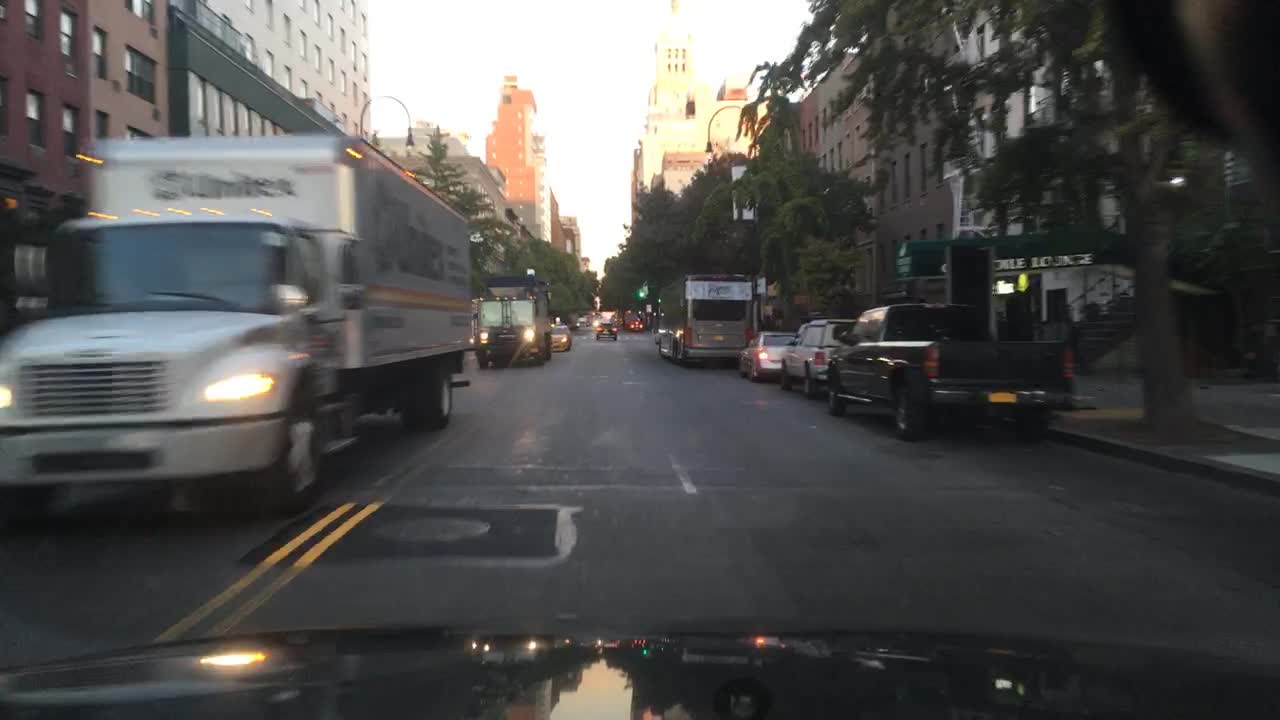bus: (652, 272, 755, 367)
car: (824, 300, 1079, 441), (780, 316, 858, 400), (736, 330, 798, 384), (547, 322, 573, 352), (591, 318, 620, 343), (622, 311, 643, 332), (575, 314, 591, 328)
traffic light: (992, 273, 1015, 297), (754, 275, 766, 294), (636, 281, 648, 298)
traffic sign: (729, 163, 754, 218), (1014, 272, 1029, 289)
truck: (0, 128, 474, 515), (473, 274, 553, 370)
